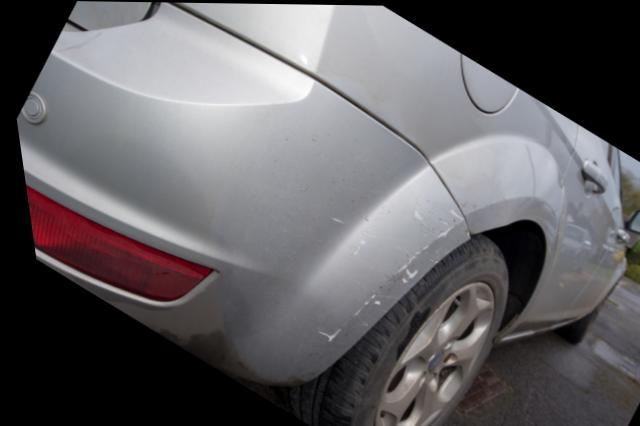scratch: (309, 202, 464, 350)
